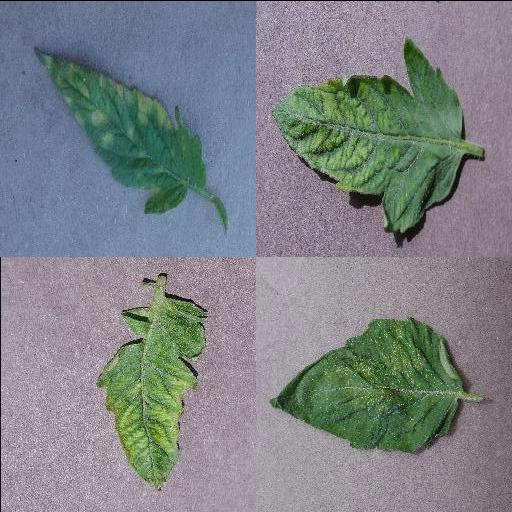Leaf Mold: (33, 47, 207, 213)
Mosaic Virus: (269, 34, 465, 234), (95, 294, 207, 492)
Spider Mites: (269, 318, 465, 454)
